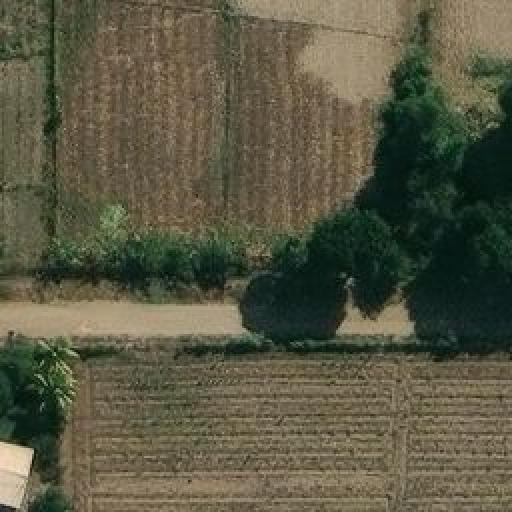manzanas: (1, 433, 48, 510)
